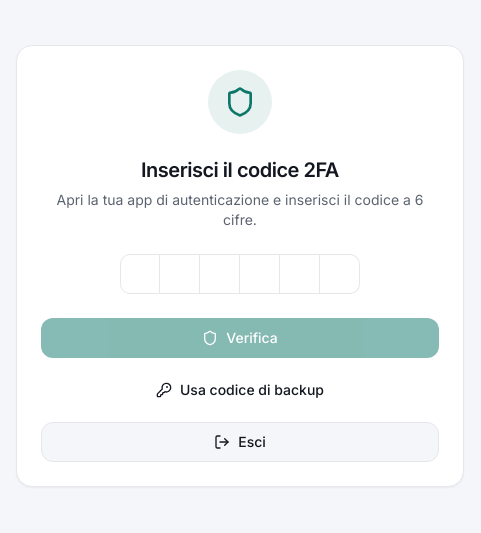
Scenario: MfaVerifyPage › shows error with remaining attempts for invalid backup code (AC5)
The image size is (481, 533).
Click the button "Usa codice di backup". click: (240, 390)
box: [41, 370, 439, 410]
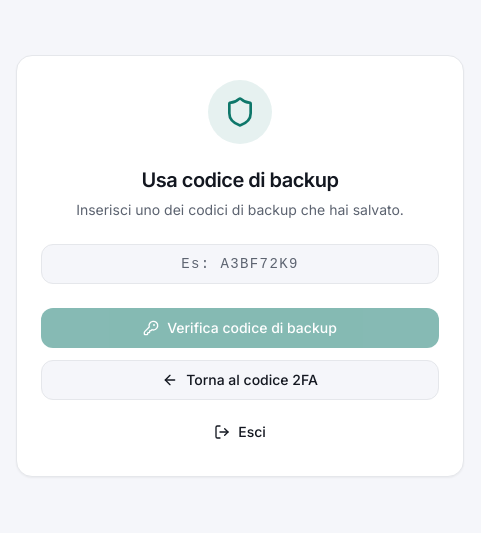
Type "WRONGCODE" into the field with placeholder "Es: A3BF72K9". click: (240, 264)
box: [41, 244, 439, 284]
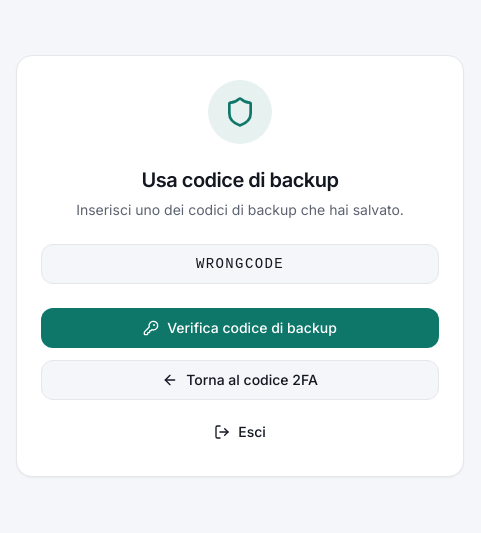
Click the button "Verifica codice di backup". click: (240, 328)
box: [41, 308, 439, 348]
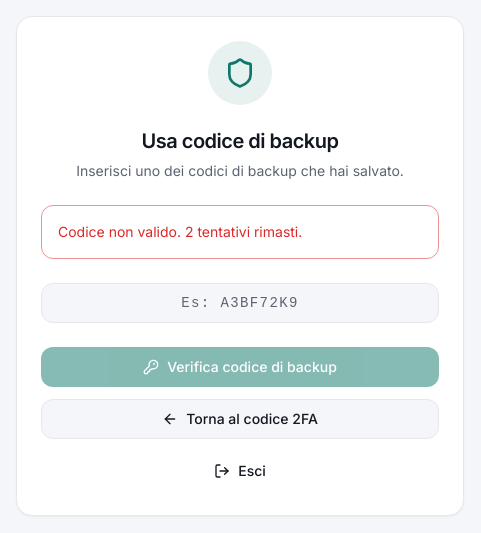
Result: the text "Codice non valido. 2 tentativi rimasti." is shown at [58, 223, 302, 240]
